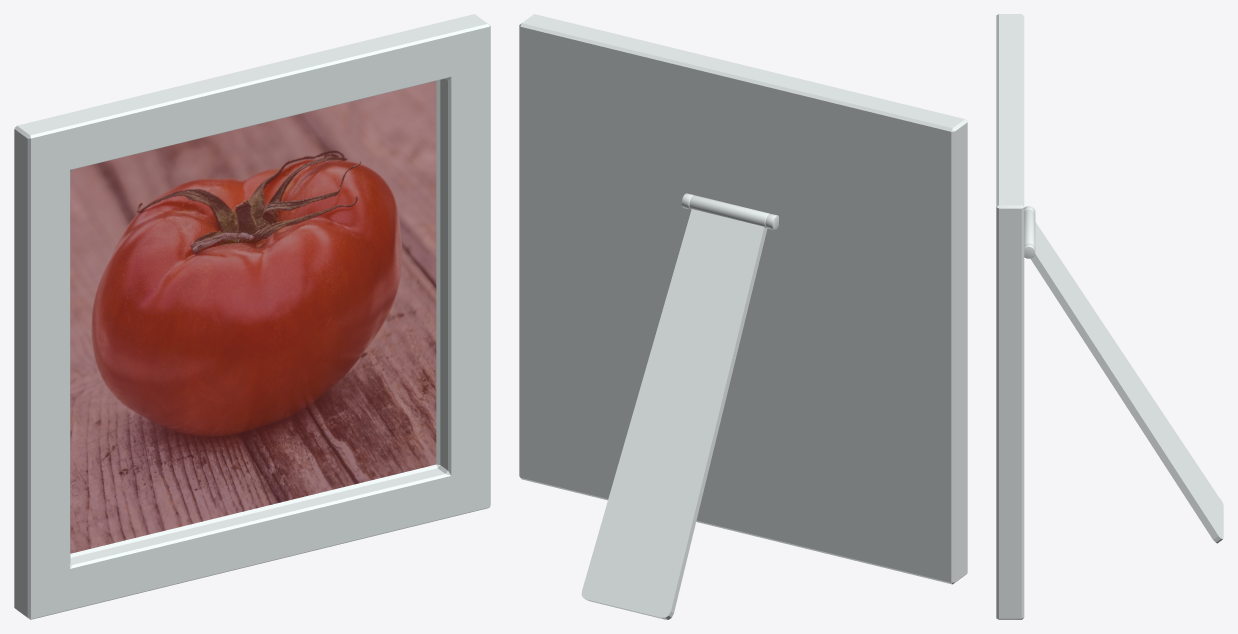
File: aws_DeskPortraitC_01_visual.DAE
The picture shows the model from 3 angles, left to right: view 1: azimuth 30°, elevation 25°; view 2: azimuth 150°, elevation 25°; view 3: azimuth 270°, elevation 25°; orthographic projection. The views are drawn at different scales.
Visible parts, largest first — view 1: aws_DeskPortraitC_01_visual; view 2: aws_DeskPortraitC_01_visual; view 3: aws_DeskPortraitC_01_visual.
Boxes of the visible parts, x1=… form: aws_DeskPortraitC_01_visual: x1=14, y1=14, x2=490, y2=619; aws_DeskPortraitC_01_visual: x1=519, y1=14, x2=967, y2=619; aws_DeskPortraitC_01_visual: x1=996, y1=14, x2=1223, y2=619.
Size of the model in its own units: 16.8 by 8.34 by 16.81.
Materials: 2 (2 with a texture image).
